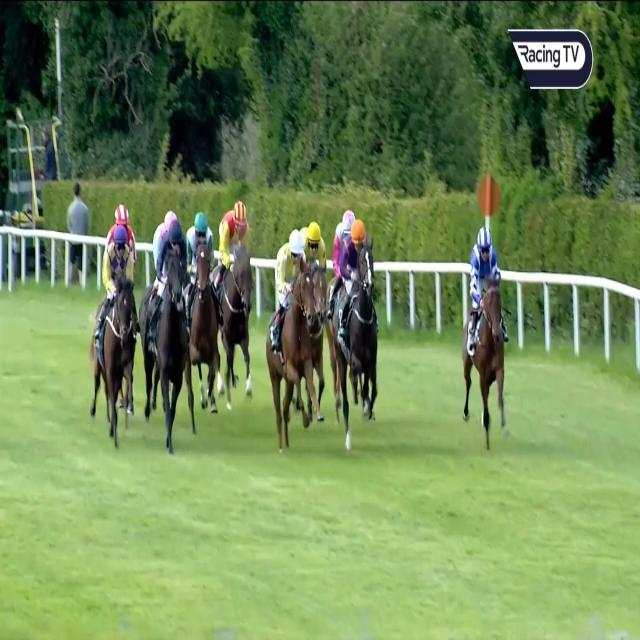horses-racing: (268, 223, 318, 459), (208, 193, 259, 417), (462, 217, 510, 451), (335, 216, 381, 456), (92, 228, 135, 444), (145, 221, 186, 440), (186, 202, 220, 418), (297, 214, 330, 352), (327, 190, 356, 318), (99, 197, 137, 273), (148, 199, 180, 271)
